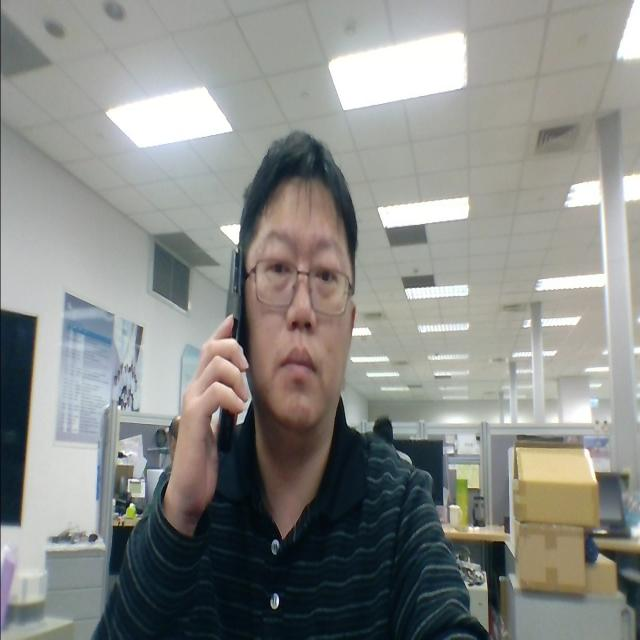phone: (178, 227, 262, 473)
